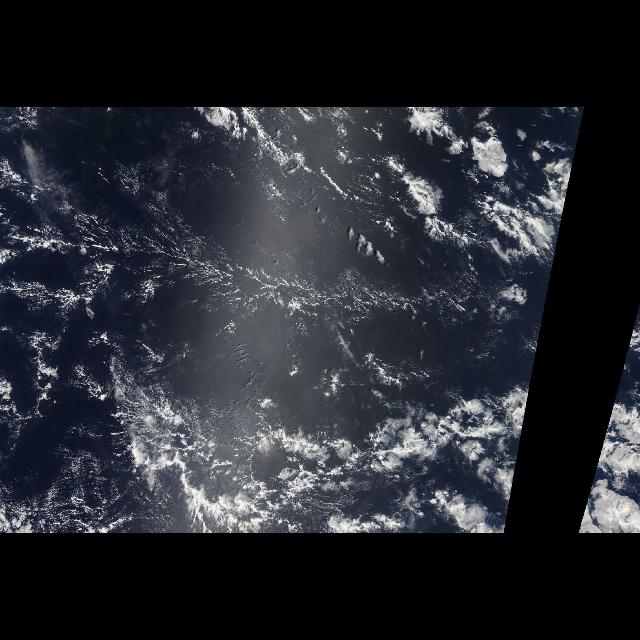Fish: (118, 375, 510, 517), (376, 110, 558, 258)
